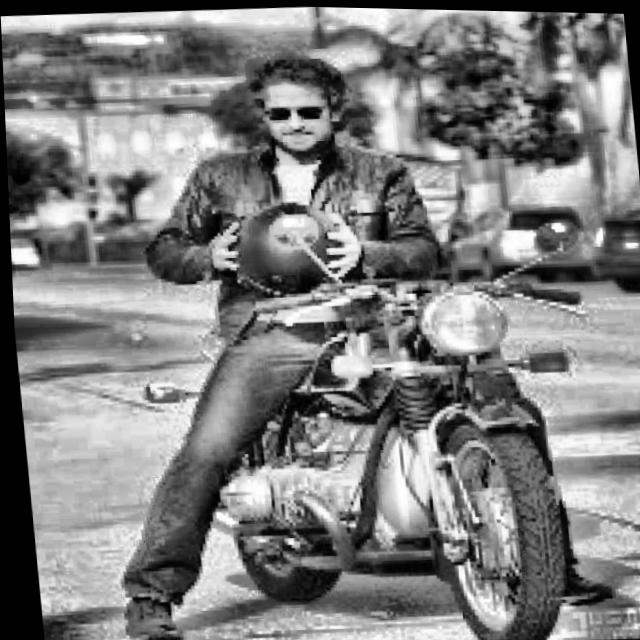motorcycle: (92, 182, 629, 640)
